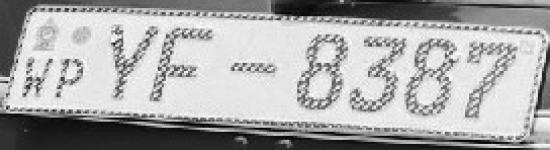-: (227, 58, 281, 76)
3: (350, 32, 408, 124)
7: (463, 41, 520, 128)
8: (295, 28, 351, 116), (410, 37, 460, 120)
F: (151, 28, 216, 102)
P: (56, 55, 88, 101)
W: (21, 50, 52, 99)
Y: (104, 19, 157, 99)
